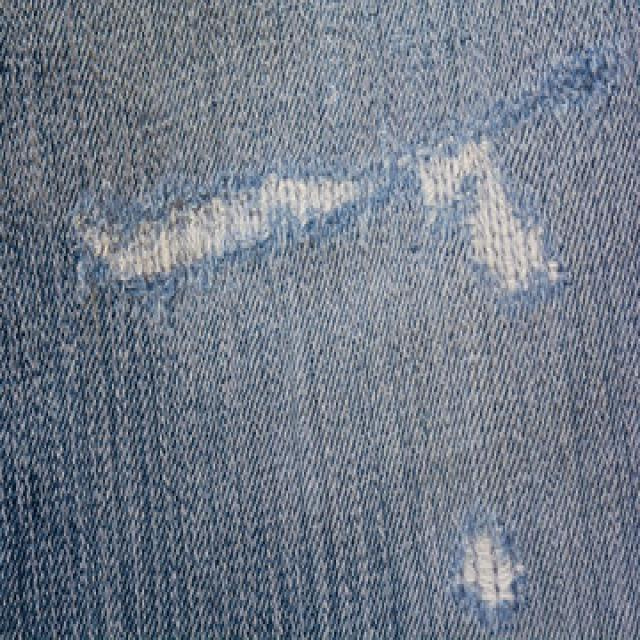Hole: (83, 174, 360, 282), (416, 142, 563, 290), (456, 527, 526, 625)
